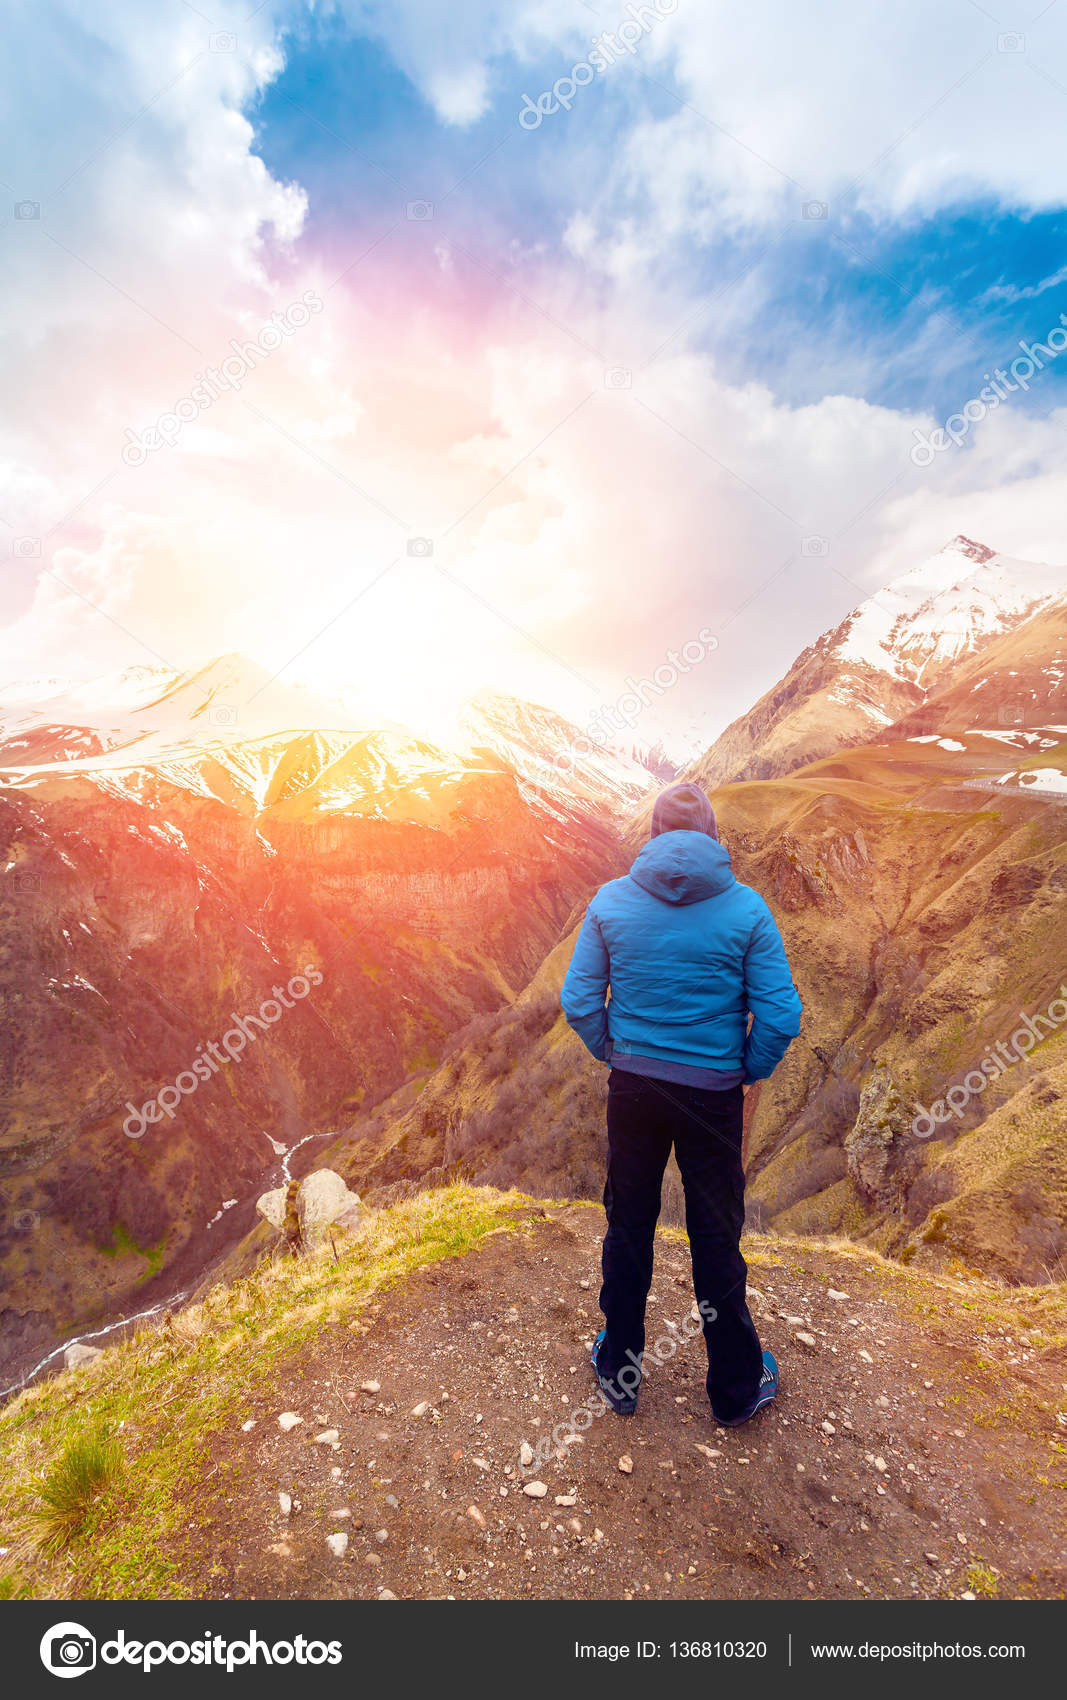person: (572, 784, 801, 1426)
